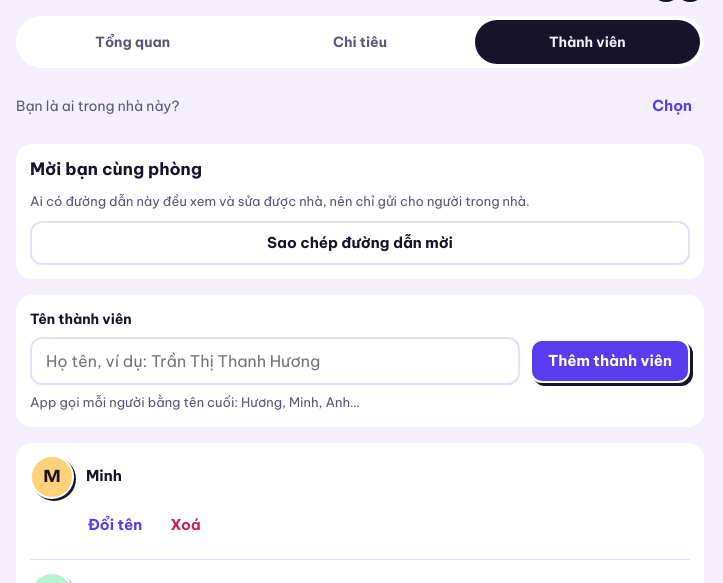
it: renaming keeps edit mode open when the name is taken
Click the button with aria-label "Đổi tên Minh": (115, 525) [76,503,154,547]
(page scrolled)
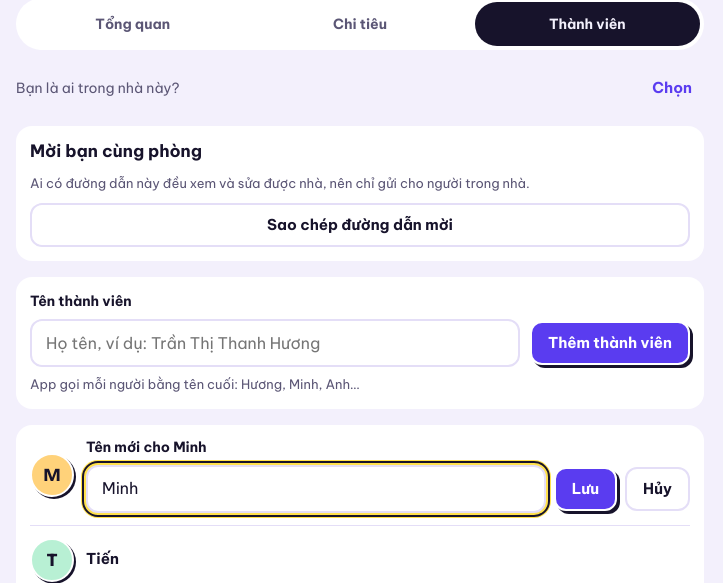
Replace the text in the field labelled "Tên mới cho Minh" with "Tiến": (316, 489) [86,465,546,513]
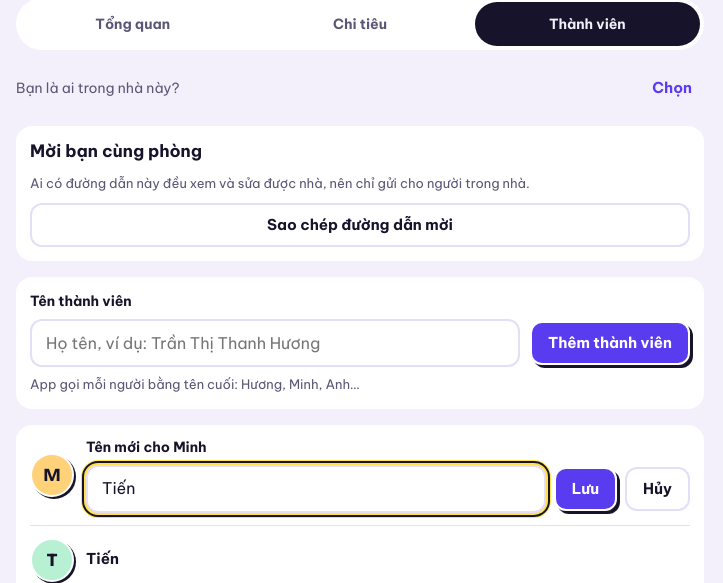
Click the button "Lưu": (585, 489) [554,467,617,511]
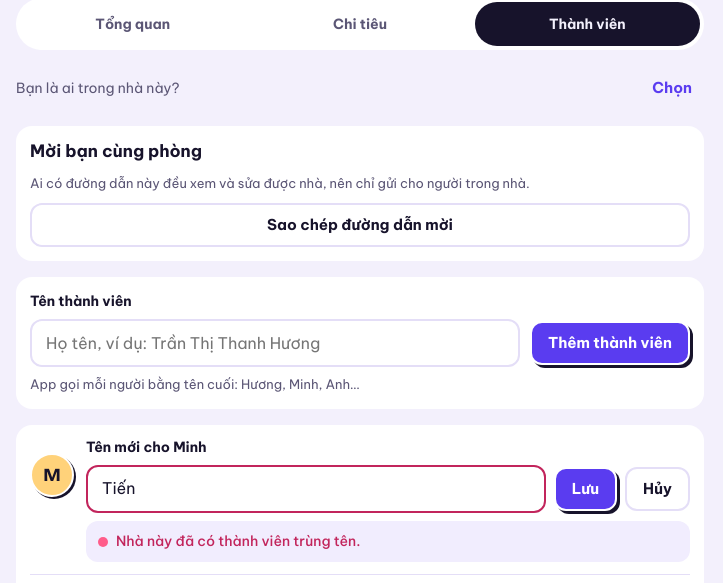
Check: the message "Nhà này đã có thành viên trùng tên." is shown, box [86,521,690,562]
